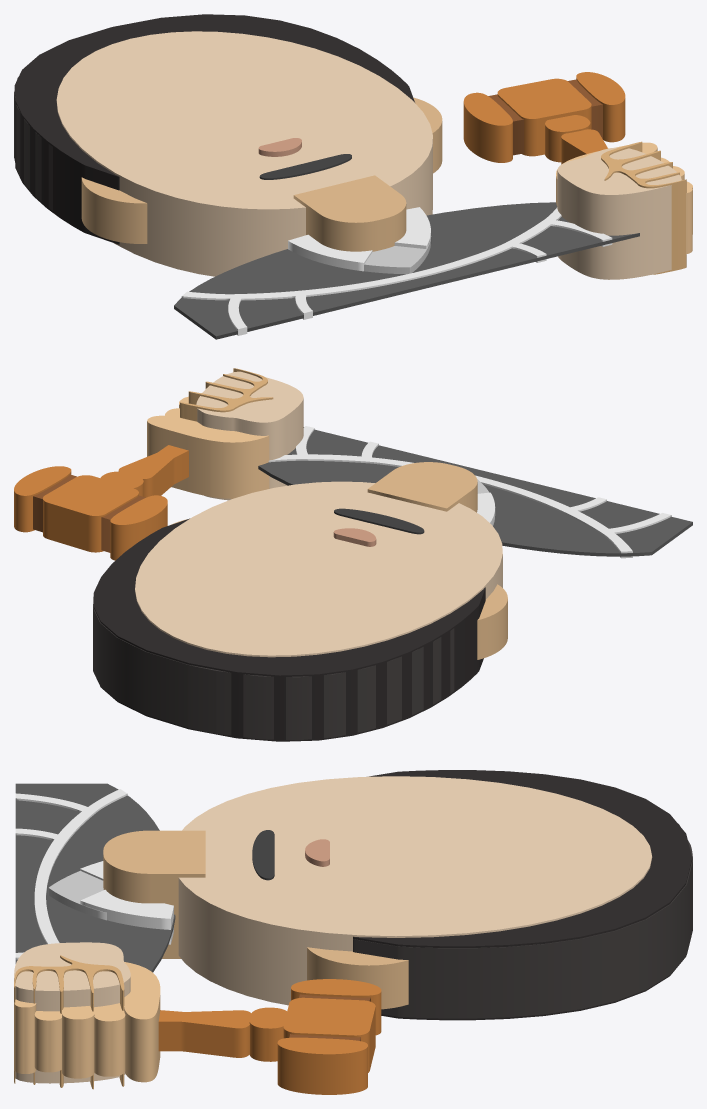
File: emoji_u1f468_1f3fb_200d_2696.glb
3 views of the same model, one above another, from view 1: azimuth 30°, elevation 25°; view 2: azimuth 150°, elevation 25°; view 3: azimuth 270°, elevation 25° (orthographic). The views are drawn at different scales.
Visible parts, largest first — view 1: emoji_u1f468_1f3fb_200d_2696; view 2: emoji_u1f468_1f3fb_200d_2696; view 3: emoji_u1f468_1f3fb_200d_2696.
Part boxes in pixels (bbox=[...]): emoji_u1f468_1f3fb_200d_2696: bbox=[14, 14, 692, 339]; emoji_u1f468_1f3fb_200d_2696: bbox=[14, 368, 692, 741]; emoji_u1f468_1f3fb_200d_2696: bbox=[14, 770, 692, 1094].
Bounding box in the file's own units: 0.0335 × 0.0052 × 0.0333.
